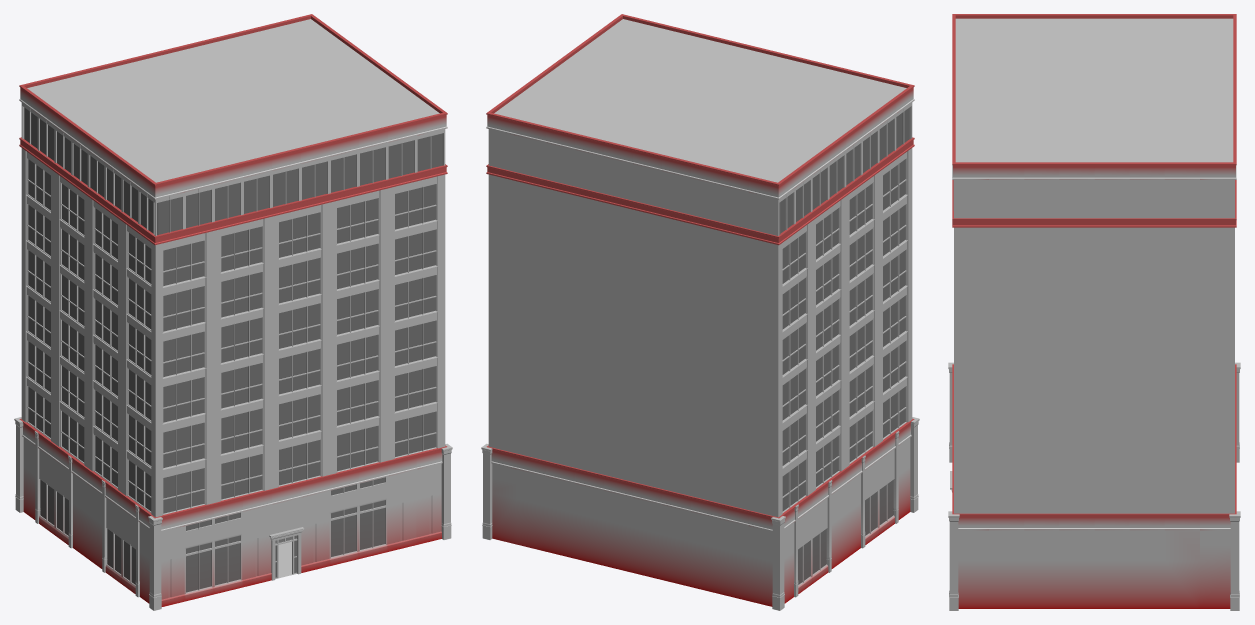
File: Building_Large_2.gltf
The picture shows the model from 3 angles, left to right: view 1: azimuth 30°, elevation 25°; view 2: azimuth 150°, elevation 25°; view 3: azimuth 270°, elevation 25°; orthographic projection. The views are drawn at different scales.
Visible parts, largest first — view 1: Building_Large_2; view 2: Building_Large_2; view 3: Building_Large_2.
Boxes of the visible parts, x1=… form: Building_Large_2: x1=14, y1=14, x2=452, y2=610; Building_Large_2: x1=481, y1=14, x2=919, y2=610; Building_Large_2: x1=948, y1=14, x2=1240, y2=610.
Size of the model in its own units: 20.64 by 28 by 16.64.
